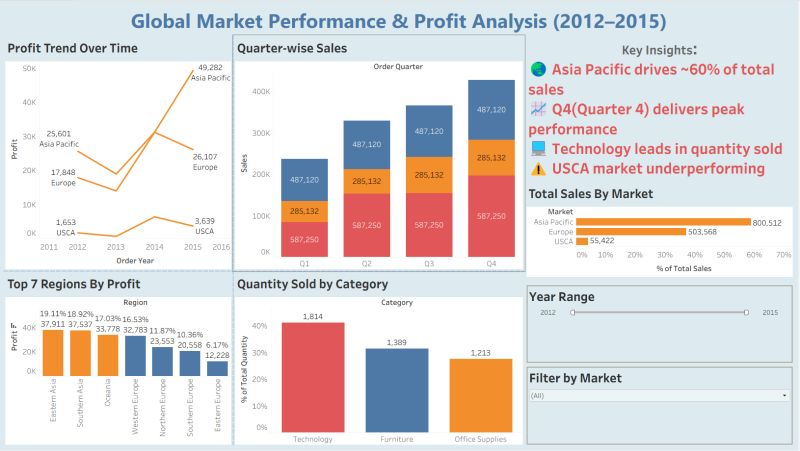

This screenshot's page, from the dashboard's own definition file:
{"tool":"tableau","page":{"name":"Market Trend Comparison Dashboard","canvas":[1000,1000],"units":"permille","ordinal":0},"visuals":[{"type":"title","box":[4.9,8.7,990.2,67.6]},{"type":"worksheet","title":"Profit Trend Over Time ","mark":"Line","rows":["Profit"],"cols":["Order Year"],"box":[4.9,76.3,287.4,524.1]},{"type":"worksheet","title":"Quarter-wise Sales","mark":"Automatic","rows":["Sales"],"cols":["Order Quarter"],"box":[292.4,76.3,364.9,524.5]},{"type":"text","box":[657.2,76.3,337.8,323.9]},{"type":"worksheet","title":"Total Sales by Market","mark":"Automatic","rows":["Market"],"box":[657.2,400.2,337.8,227.9]},{"type":"worksheet","title":"Top 7 Regions By Profit","mark":"Automatic","rows":["Profit"],"cols":["Region"],"box":[4.9,600.5,287.4,390.8]},{"type":"worksheet","title":"Quantity Sold by Category","mark":"Automatic","rows":["Quantity"],"cols":["Category"],"box":[292.4,600.9,364.9,390.4]},{"type":"filter","title":"Quarter-wise Sales","param":"[federated.0gt4v4g17qwtcr0ztbux313kty63].[none:Order Year:qk]","box":[657.2,628.1,337.8,181]},{"type":"filter","title":"Top 7 Regions By Profit","param":"[federated.0gt4v4g17qwtcr0ztbux313kty63].[none:Market:nk]","box":[657.2,809.2,337.8,182.1]}]}

Visuals, with their boxes on the dashboard's canvas, which has no fixed pixel size, in thousandths of its width and height (x1, y1, x2, y2). These are canvas units, not pixel positions in the 800x451 screenshot, which may show the page scaled, cropped or inside an application window:
title: BBox(5, 9, 995, 76)
"Profit Trend Over Time " worksheet (Line marks): BBox(5, 76, 292, 600)
"Quarter-wise Sales" worksheet: BBox(292, 76, 657, 601)
text: BBox(657, 76, 995, 400)
"Total Sales by Market" worksheet: BBox(657, 400, 995, 628)
"Top 7 Regions By Profit" worksheet: BBox(5, 600, 292, 991)
"Quantity Sold by Category" worksheet: BBox(292, 601, 657, 991)
"Quarter-wise Sales" filter: BBox(657, 628, 995, 809)
"Top 7 Regions By Profit" filter: BBox(657, 809, 995, 991)
